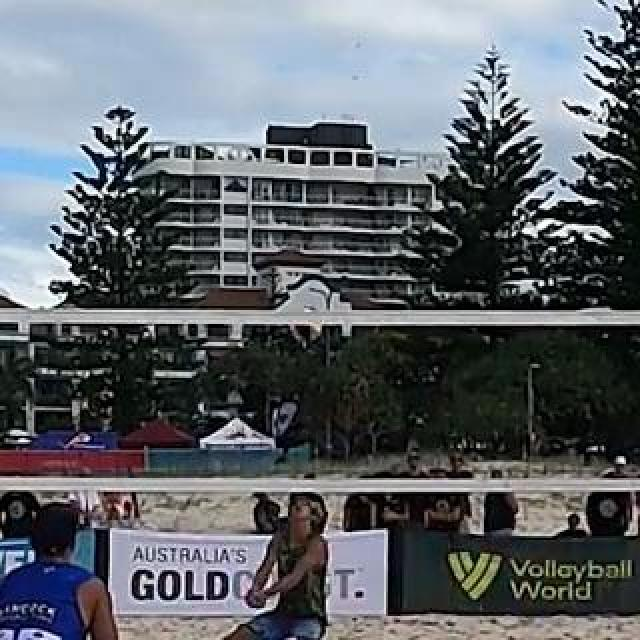volleyball: (291, 320, 321, 342)
